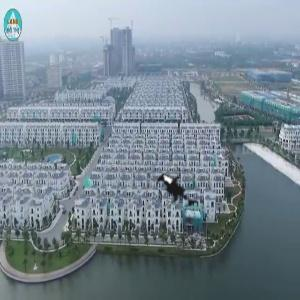drone: (144, 151, 219, 226)
